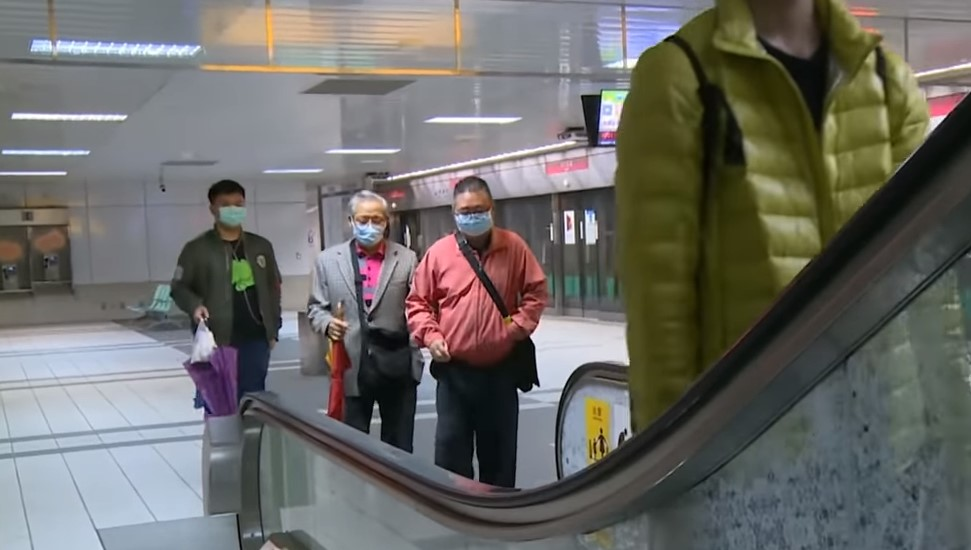face_with_mask: (451, 174, 497, 239), (346, 191, 389, 254), (210, 181, 251, 227)
